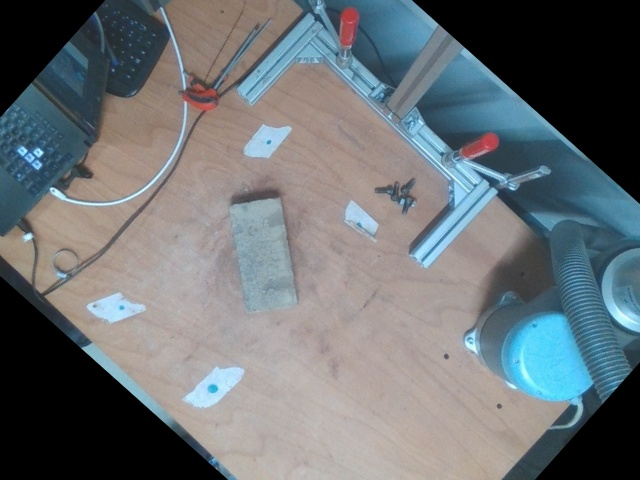brick: (229, 198, 294, 310)
